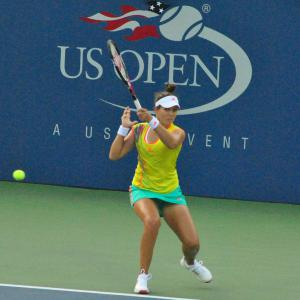TennisBall: (14, 170, 27, 182), (14, 172, 26, 183)
